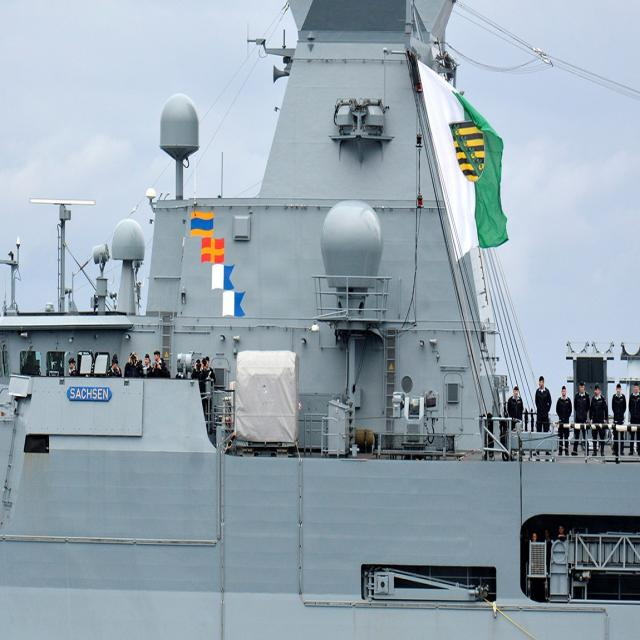Fragata: (1, 12, 465, 640)
